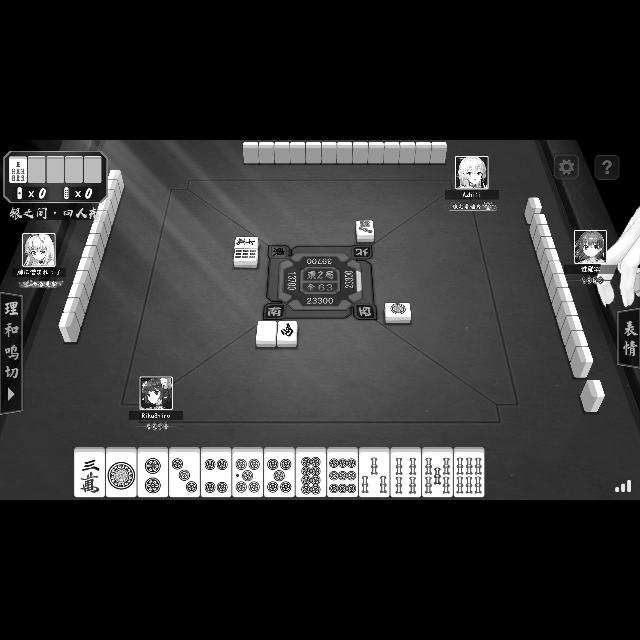1p: (106, 447, 138, 497), (385, 303, 411, 323)
2p: (138, 447, 168, 497)
3m: (75, 448, 105, 497)
3p: (170, 448, 200, 497)
3s: (360, 447, 390, 497)
4p: (201, 447, 231, 497)
4s: (391, 448, 422, 497)
5p: (264, 447, 296, 497), (232, 448, 264, 497)
5s: (422, 447, 452, 497)
6s: (454, 447, 484, 497)
7m: (235, 238, 259, 248)
7p: (356, 220, 374, 242)
7s: (9, 157, 27, 183)
8p: (296, 447, 326, 497)
9p: (328, 448, 358, 497)
9s: (234, 249, 258, 267)
haku: (256, 321, 276, 347)
nan: (278, 321, 298, 347)
